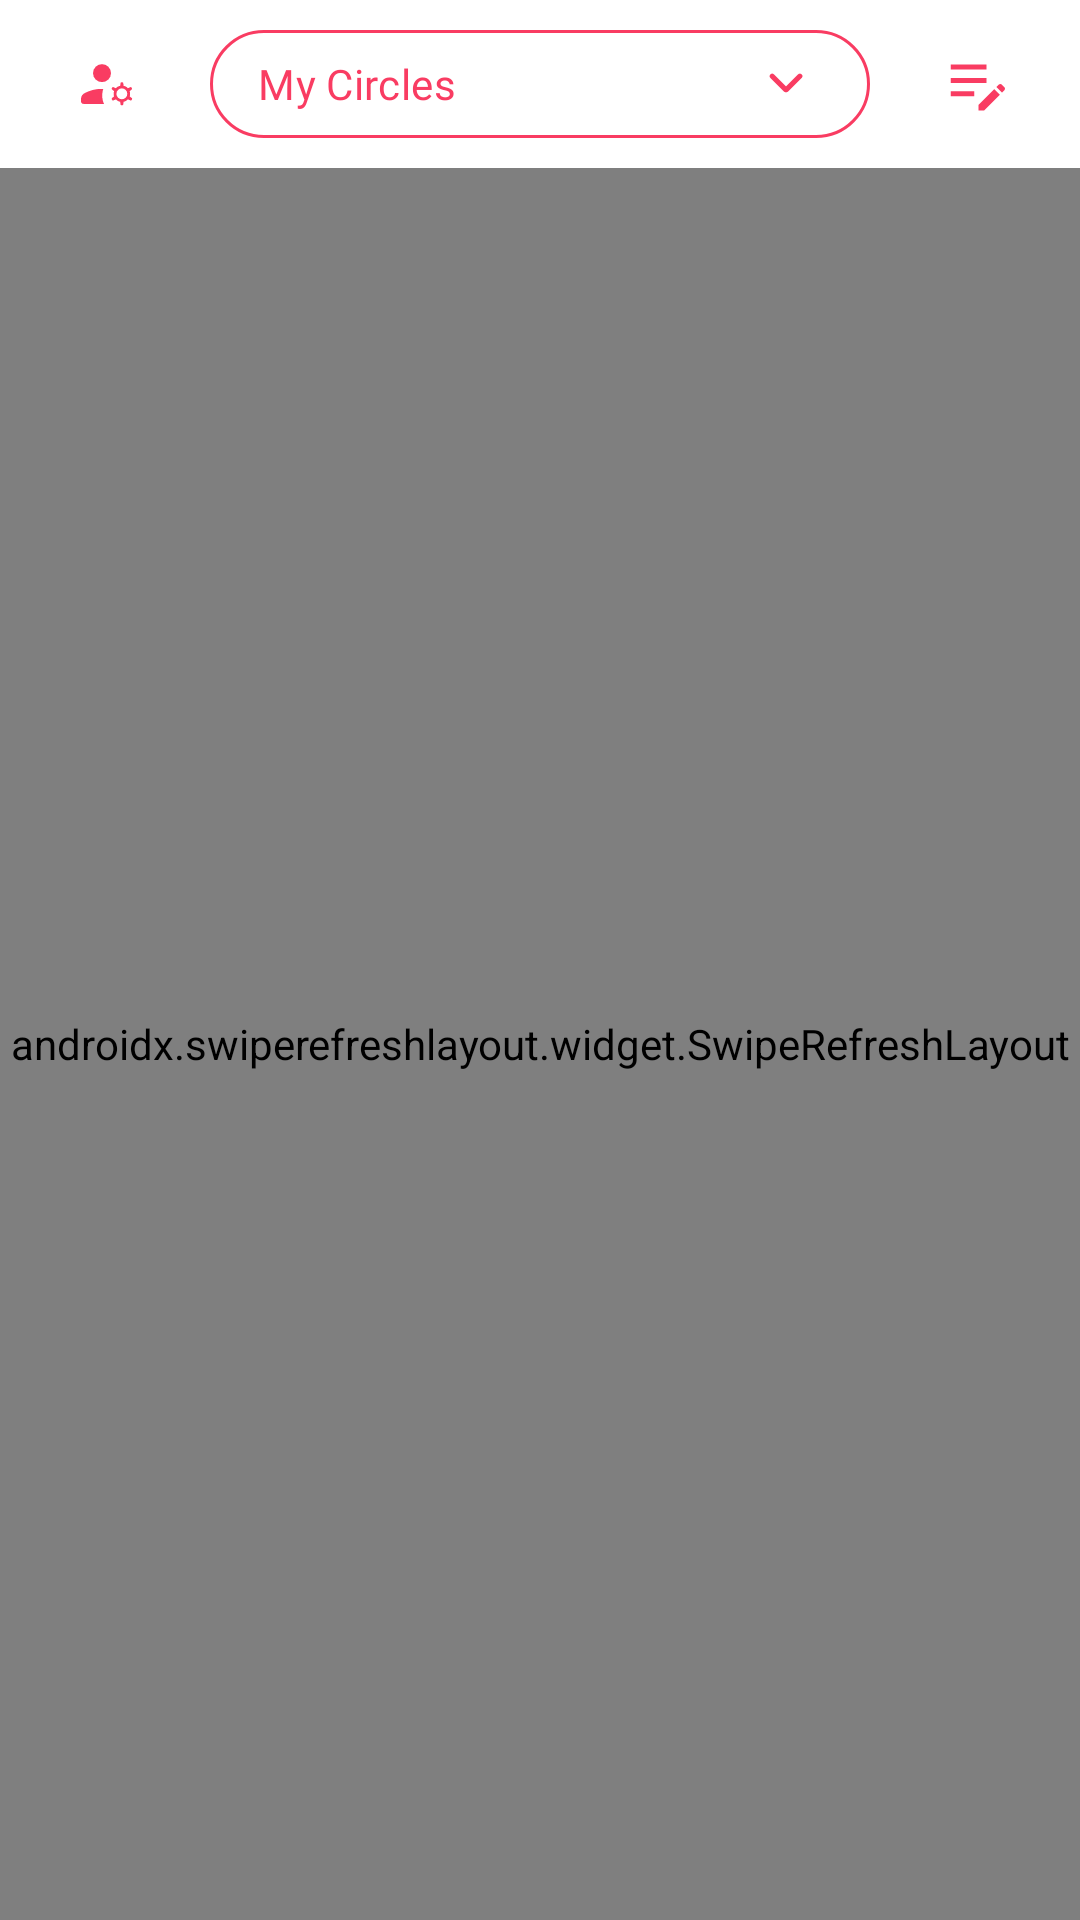

Named icons in this screenshot (1080x1920) and their bounding boxes, bbox(x1, y1, x2, y2):
edit note: bbox(950, 64, 1005, 111)
manage accounts: bbox(81, 64, 132, 106)
